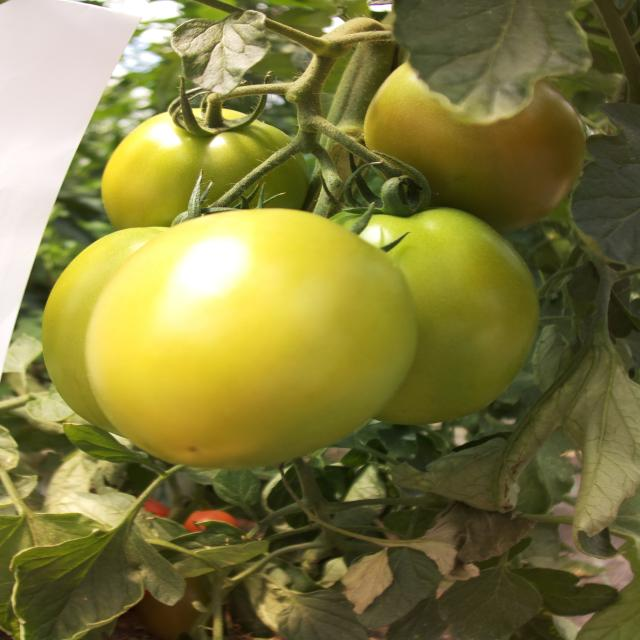yesil: (49, 104, 562, 459)
